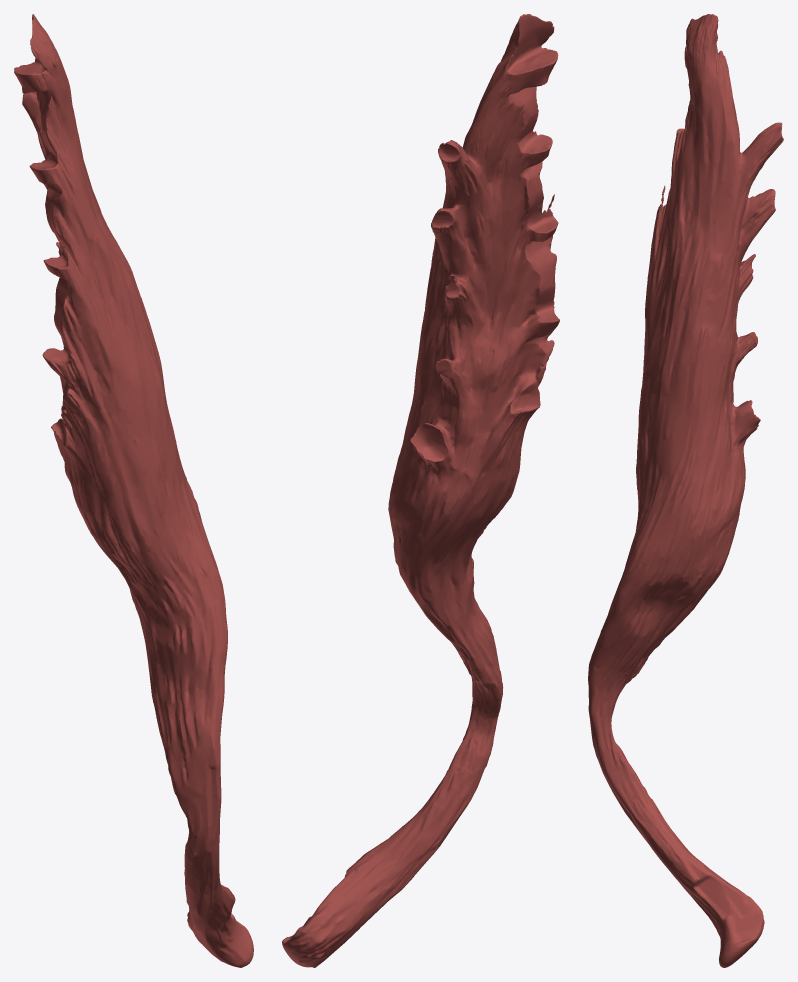
File: FMA22343.glb
3 views of the same model, side by side, from view 1: azimuth 30°, elevation 25°; view 2: azimuth 150°, elevation 25°; view 3: azimuth 270°, elevation 25° (orthographic). The views are drawn at different scales.
Parts seen in each view (by area): view 1: FMA22343; view 2: FMA22343; view 3: FMA22343.
Part boxes in pixels (x1=…): FMA22343: x1=14, y1=14, x2=253, y2=967; FMA22343: x1=282, y1=14, x2=559, y2=967; FMA22343: x1=588, y1=14, x2=783, y2=967.
Size of the model in its own units: 0.0968 by 0.3678 by 0.0756.
